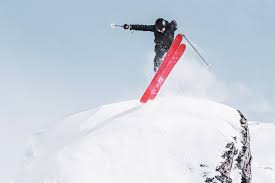skis: (138, 34, 188, 104)
